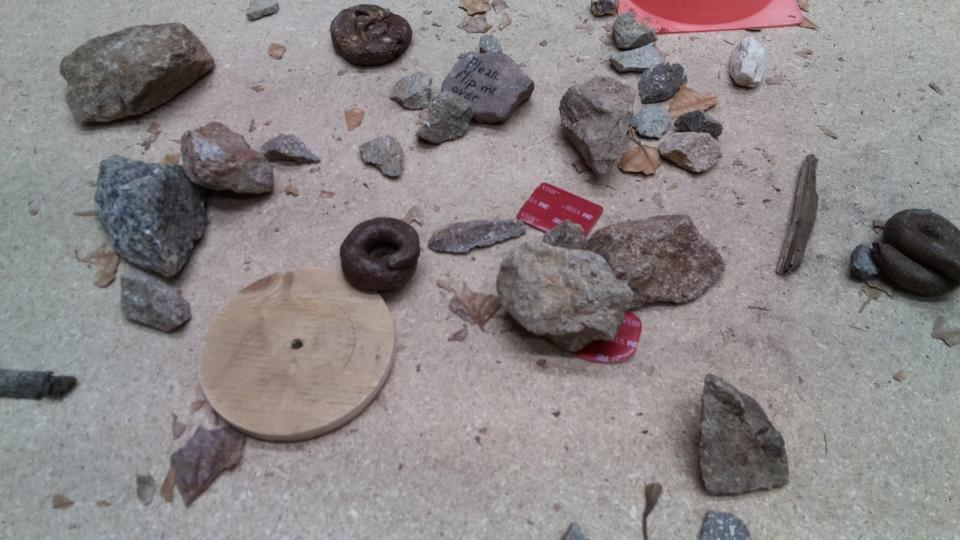poop: (868, 205, 960, 301), (337, 213, 422, 298), (327, 3, 414, 70)
